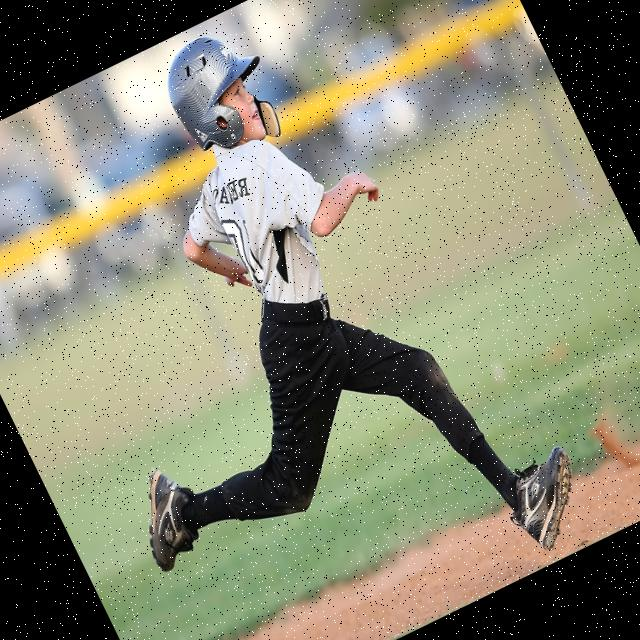Person: (0, 0, 602, 640)
